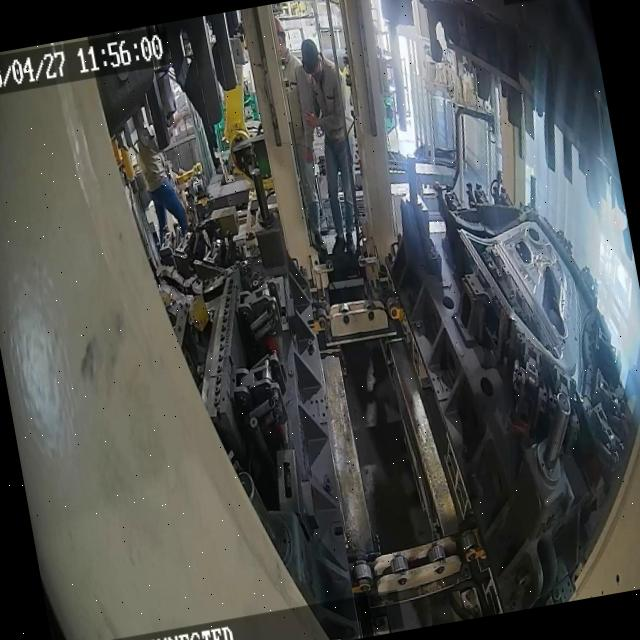Person: (290, 33, 371, 259), (269, 12, 340, 256), (131, 119, 191, 248)
